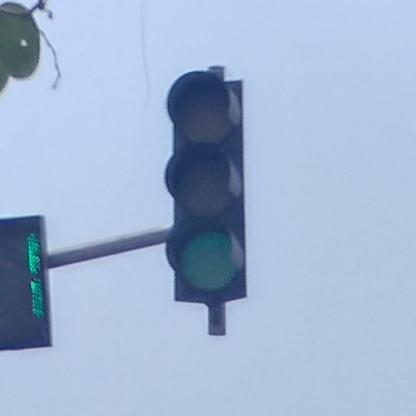green: (165, 71, 249, 300)
